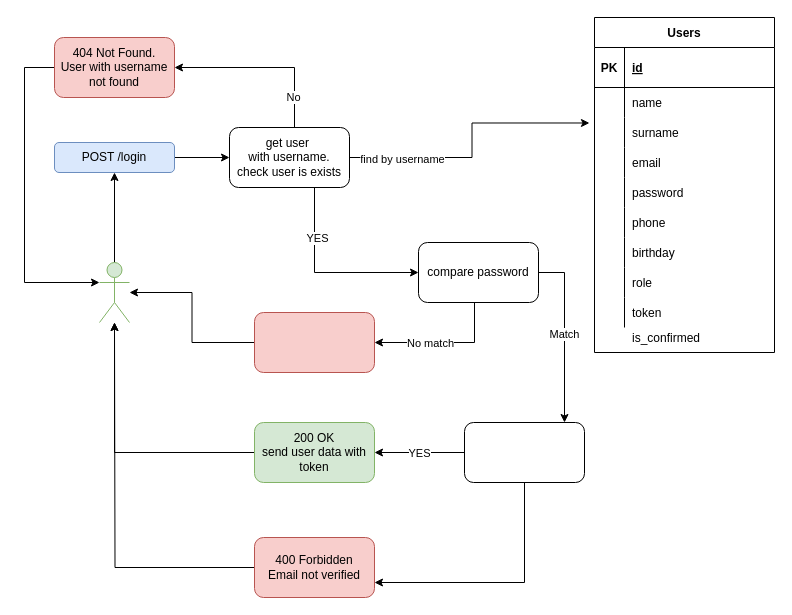
Image size: 792x615. Some labels were removed from this diagram. The box of each missing label's shape, as (x1, y1, x2, y2) in pixels:
403 Bad Reqeust username or password wrong: (254, 312, 374, 372)
Actor: (98, 262, 130, 322)
Check is_confirmed: (464, 422, 584, 482)
